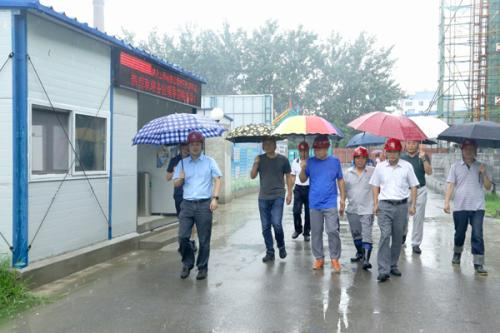boots: (362, 242, 372, 269), (353, 240, 363, 262), (391, 260, 404, 276), (180, 262, 193, 277), (474, 263, 488, 274), (312, 258, 324, 269), (331, 258, 341, 271), (180, 264, 190, 277), (196, 268, 207, 279), (262, 252, 275, 261), (377, 272, 390, 281), (452, 252, 461, 264), (278, 246, 287, 257), (412, 245, 421, 253), (292, 230, 301, 237), (303, 233, 310, 240)
hard-hat: (384, 138, 402, 151), (312, 135, 330, 148), (188, 130, 204, 142), (353, 147, 369, 158), (298, 140, 309, 150)
person: (171, 131, 223, 279), (369, 138, 420, 282), (443, 139, 494, 275), (298, 134, 346, 272), (250, 135, 292, 261), (339, 146, 377, 270), (398, 139, 433, 253), (165, 141, 197, 253), (288, 141, 312, 241)
